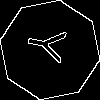Y: (25, 25, 76, 66)
